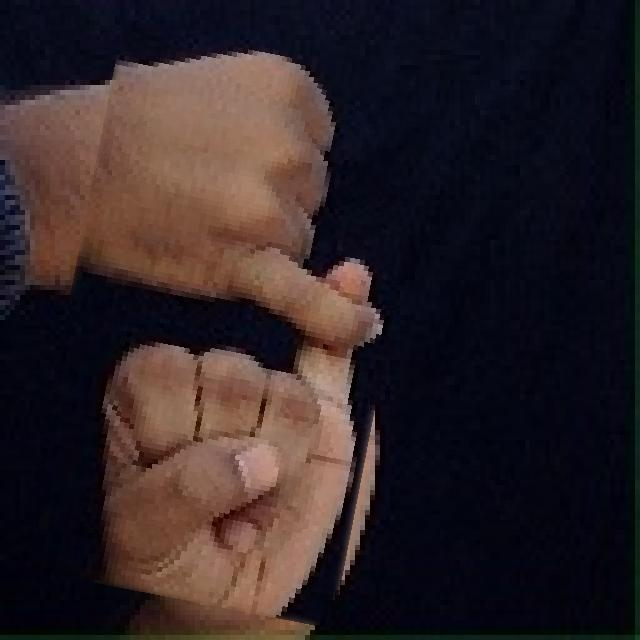S: (42, 32, 413, 616)
